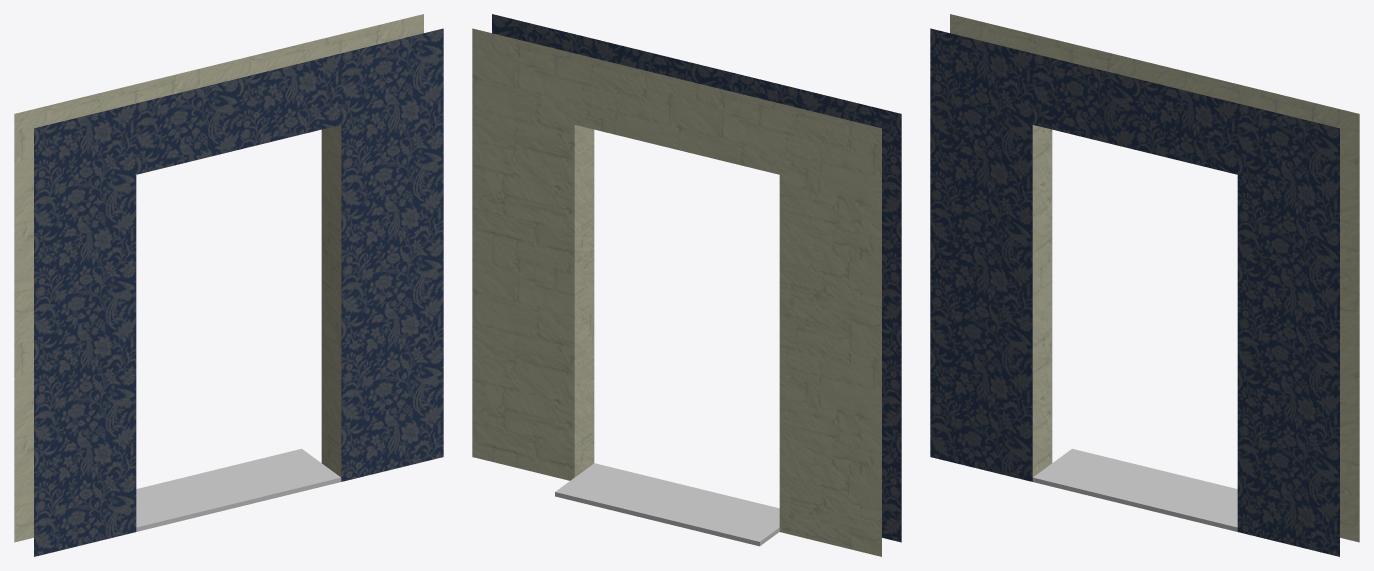
File: doorframe.fbx
The picture shows the model from 3 angles, left to right: view 1: azimuth 30°, elevation 25°; view 2: azimuth 150°, elevation 25°; view 3: azimuth 330°, elevation 25°; orthographic projection.
Visible parts, largest first — view 1: doorway, doorstep; view 2: doorway, doorstep; view 3: doorway, doorstep.
Part boxes in pixels (x1,y1,x2,y2): doorway: (14, 14, 443, 556); doorstep: (136, 448, 341, 531); doorway: (472, 14, 901, 556); doorstep: (555, 463, 779, 546); doorway: (930, 14, 1359, 556); doorstep: (1032, 448, 1237, 531).
Bounding box in the file's own units: 12 × 12 × 2.
1 material, 1 textured.
